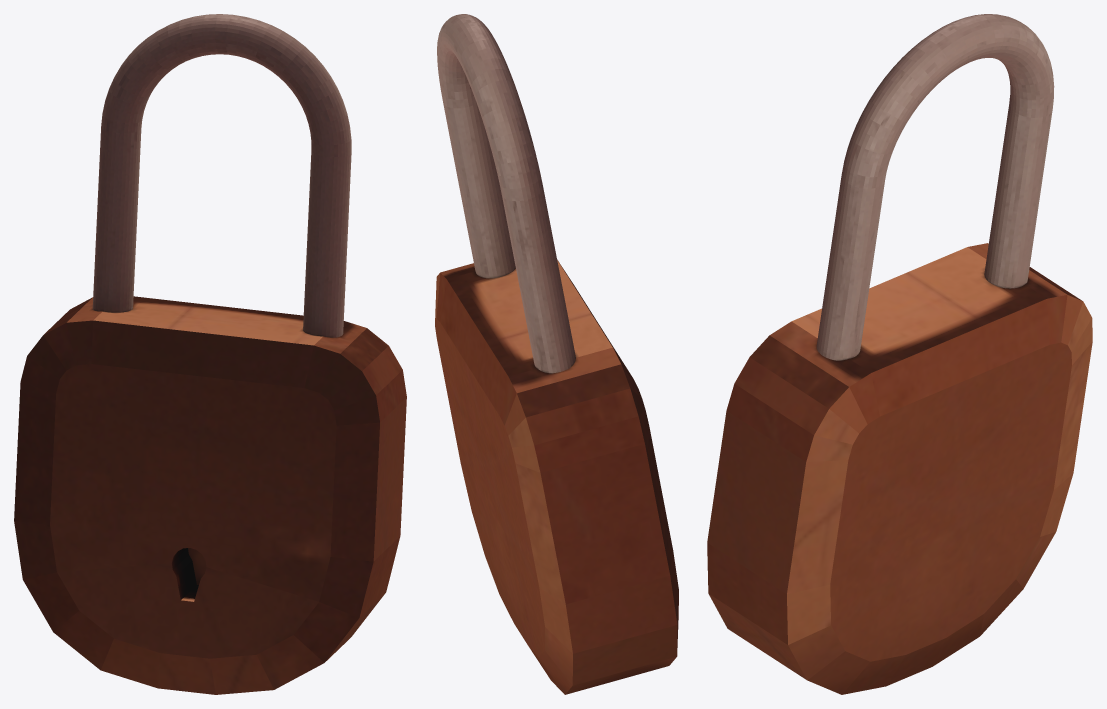
File: lock.glb
The picture shows the model from 3 angles, left to right: view 1: azimuth 30°, elevation 25°; view 2: azimuth 150°, elevation 25°; view 3: azimuth 270°, elevation 25°; orthographic projection. The views are drawn at different scales.
Visible parts, largest first — view 1: Lock_Baked, ShackleBody.001_Baked; view 2: Lock_Baked, ShackleBody.001_Baked; view 3: Lock_Baked, ShackleBody.001_Baked.
Part boxes in pixels (<box>): Lock_Baked: <box>14,296,406,694</box>; ShackleBody.001_Baked: <box>92,14,351,337</box>; Lock_Baked: <box>435,259,678,694</box>; ShackleBody.001_Baked: <box>437,14,575,373</box>; Lock_Baked: <box>707,243,1092,694</box>; ShackleBody.001_Baked: <box>816,14,1054,360</box>.
Bounding box in the file's own units: 0.7662 × 1.48 × 0.7662.
1 material, 1 textured.
